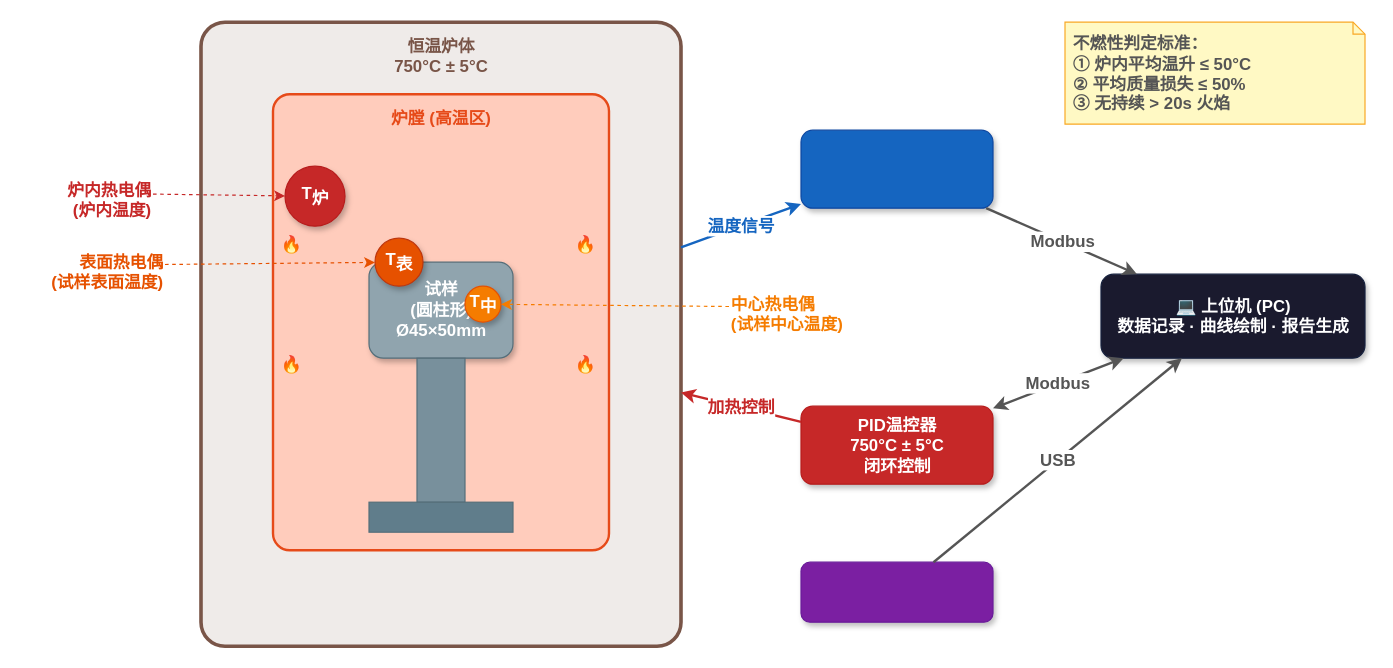
Image size: 1393x668. Some labels were removed from this diagram. Each missing label, with the centre of its shape:
数据采集系统 Modbus RTU 1Hz采样: point 897,170
试样支架: point 440,516
📷 摄像头 火焰检测: point 897,593
